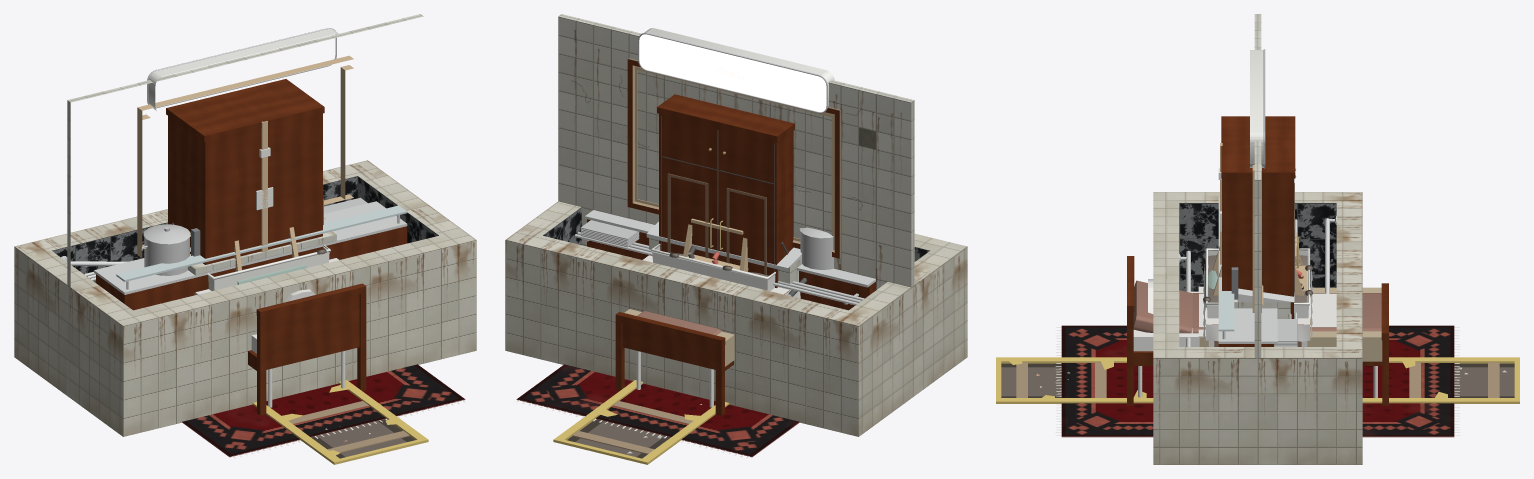
Rendered from sanatorium_rooms.glb.
The picture shows the model from 3 angles, left to right: view 1: azimuth 30°, elevation 25°; view 2: azimuth 150°, elevation 25°; view 3: azimuth 270°, elevation 25°; orthographic projection. The views are drawn at different scales.
Visible parts, largest first — view 1: p_san_hydro_bath, p_san_wardrobe, p_san_buffet, p_san_rug, p_san_bed, p_san_floor_gap, p_san_tile_mural, p_san_tile_wall, p_san_slogan, p_san_charcot_desk, p_san_mud_tank, p_san_scale; view 2: p_san_hydro_bath, p_san_tile_wall, p_san_wardrobe, p_san_rug, p_san_slogan, p_san_buffet, p_san_bed, p_san_floor_gap, p_san_tile_mural, p_san_mud_tank, p_san_charcot_desk, p_san_couch (+1 smaller); view 3: p_san_hydro_bath, p_san_rug, p_san_wardrobe, p_san_floor_gap, p_san_bed, p_san_couch, p_san_buffet, p_san_tile_wall, p_san_slogan, p_san_mud_tank, p_san_charcot_desk, p_san_dining_table (+2 smaller).
Boxes of the visible parts, x1,y1,x2,y2 form: p_san_hydro_bath: (14,160,476,436); p_san_wardrobe: (166,79,324,264); p_san_buffet: (84,197,407,310); p_san_rug: (182,364,465,458); p_san_bed: (248,283,366,415); p_san_floor_gap: (252,380,428,464); p_san_tile_mural: (137,55,353,258); p_san_tile_wall: (67,14,423,397); p_san_slogan: (147,28,339,110); p_san_charcot_desk: (172,200,336,275); p_san_mud_tank: (207,245,330,290); p_san_scale: (256,121,273,251); p_san_hydro_bath: (505,201,967,436); p_san_tile_wall: (558,14,914,289); p_san_wardrobe: (657,94,794,287); p_san_rug: (516,364,799,458); p_san_slogan: (638,28,834,113); p_san_buffet: (574,210,875,310); p_san_bed: (615,309,734,415); p_san_floor_gap: (553,380,729,464); p_san_tile_mural: (627,58,840,258); p_san_mud_tank: (651,243,775,290); p_san_charcot_desk: (646,221,806,296); p_san_couch: (636,311,721,407); p_san_hydro_bath: (1153,192,1362,464); p_san_rug: (1055,325,1460,437); p_san_wardrobe: (1221,116,1298,318); p_san_floor_gap: (996,357,1519,403); p_san_bed: (1127,256,1388,405); p_san_couch: (1133,280,1381,397); p_san_buffet: (1218,196,1297,346); p_san_tile_wall: (1254,14,1261,440); p_san_slogan: (1250,49,1265,168); p_san_mud_tank: (1203,248,1312,346); p_san_charcot_desk: (1231,267,1303,346); p_san_dining_table: (1203,264,1312,341).
Size of the model in its own units: 3 by 3.06 by 4.
43 materials, 9 textured.
